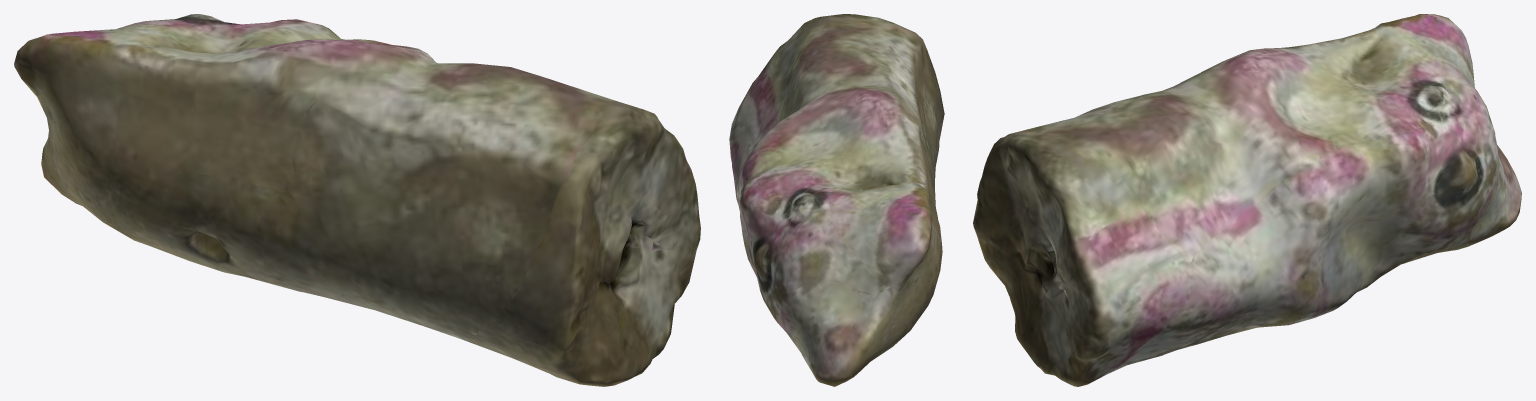
File: hall.glb
3 views of the same model, side by side, from view 1: azimuth 30°, elevation 25°; view 2: azimuth 150°, elevation 25°; view 3: azimuth 270°, elevation 25° (orthographic). The views are drawn at different scales.
Size of the model in its own units: 0.6857 by 0.3977 by 0.8292.
Materials: 1 (1 with a texture image).
